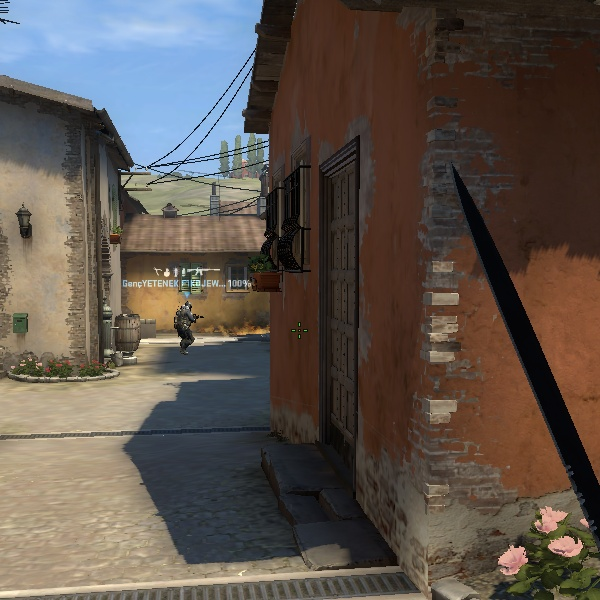ct_body: (169, 299, 204, 348)
